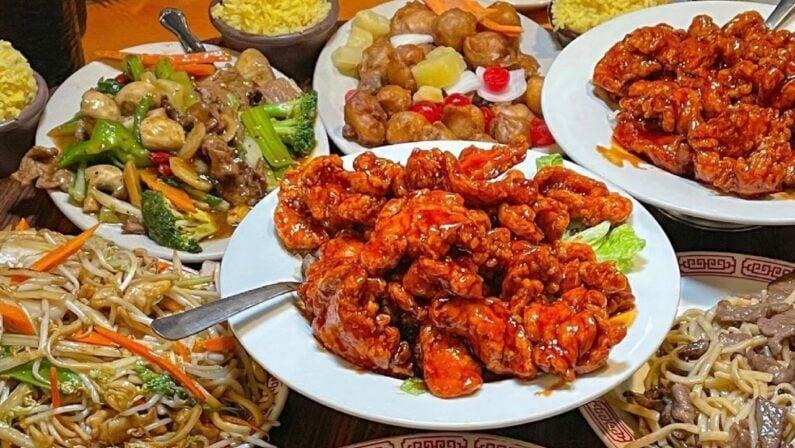Braised Crucian Carp: (224, 145, 670, 429), (41, 49, 332, 258), (540, 2, 790, 231), (309, 0, 557, 160), (502, 0, 557, 11)
